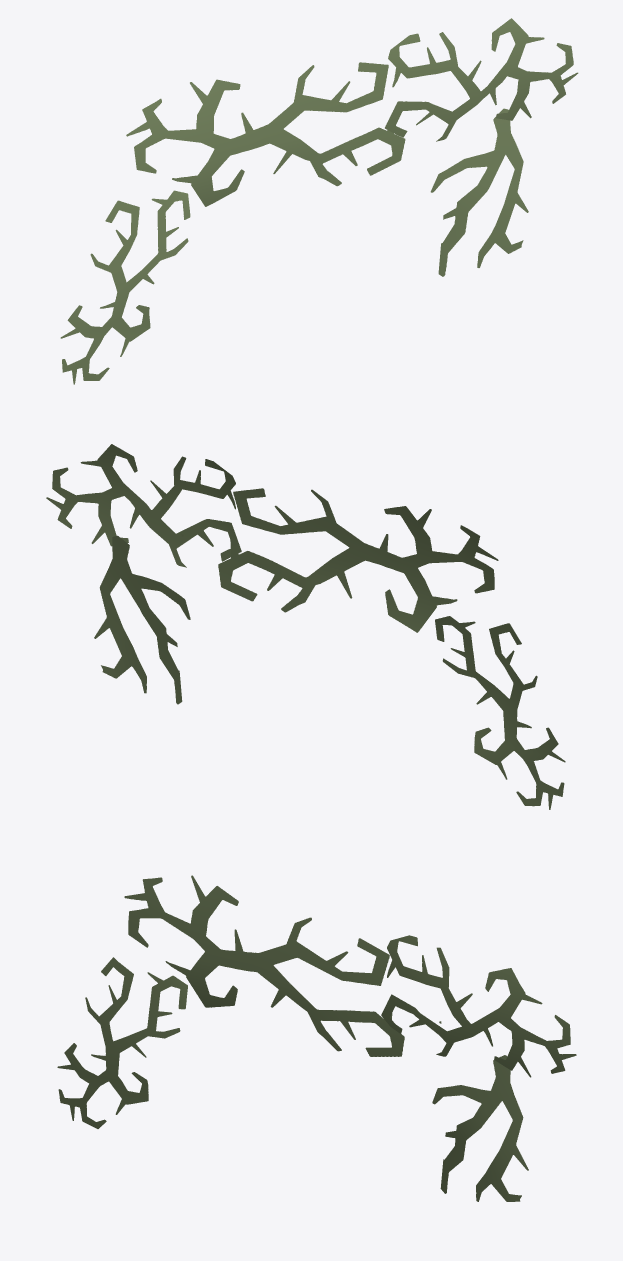
Rendered from crypt_vine_b.gltf.
3 views of the same model, one above another, from view 1: azimuth 30°, elevation 25°; view 2: azimuth 150°, elevation 25°; view 3: azimuth 330°, elevation 25° (orthographic).
Parts seen in each view (by area): view 1: crypt_vine_b; view 2: crypt_vine_b; view 3: crypt_vine_b.
Part boxes in pixels (left/top/right/bottom): crypt_vine_b: left=60, top=18, right=578, bottom=384; crypt_vine_b: left=46, top=444, right=565, bottom=809; crypt_vine_b: left=57, top=875, right=576, bottom=1201.
Size of the model in its own units: 3.05 by 1.67 by 0.0786.
1 material, 1 textured.
